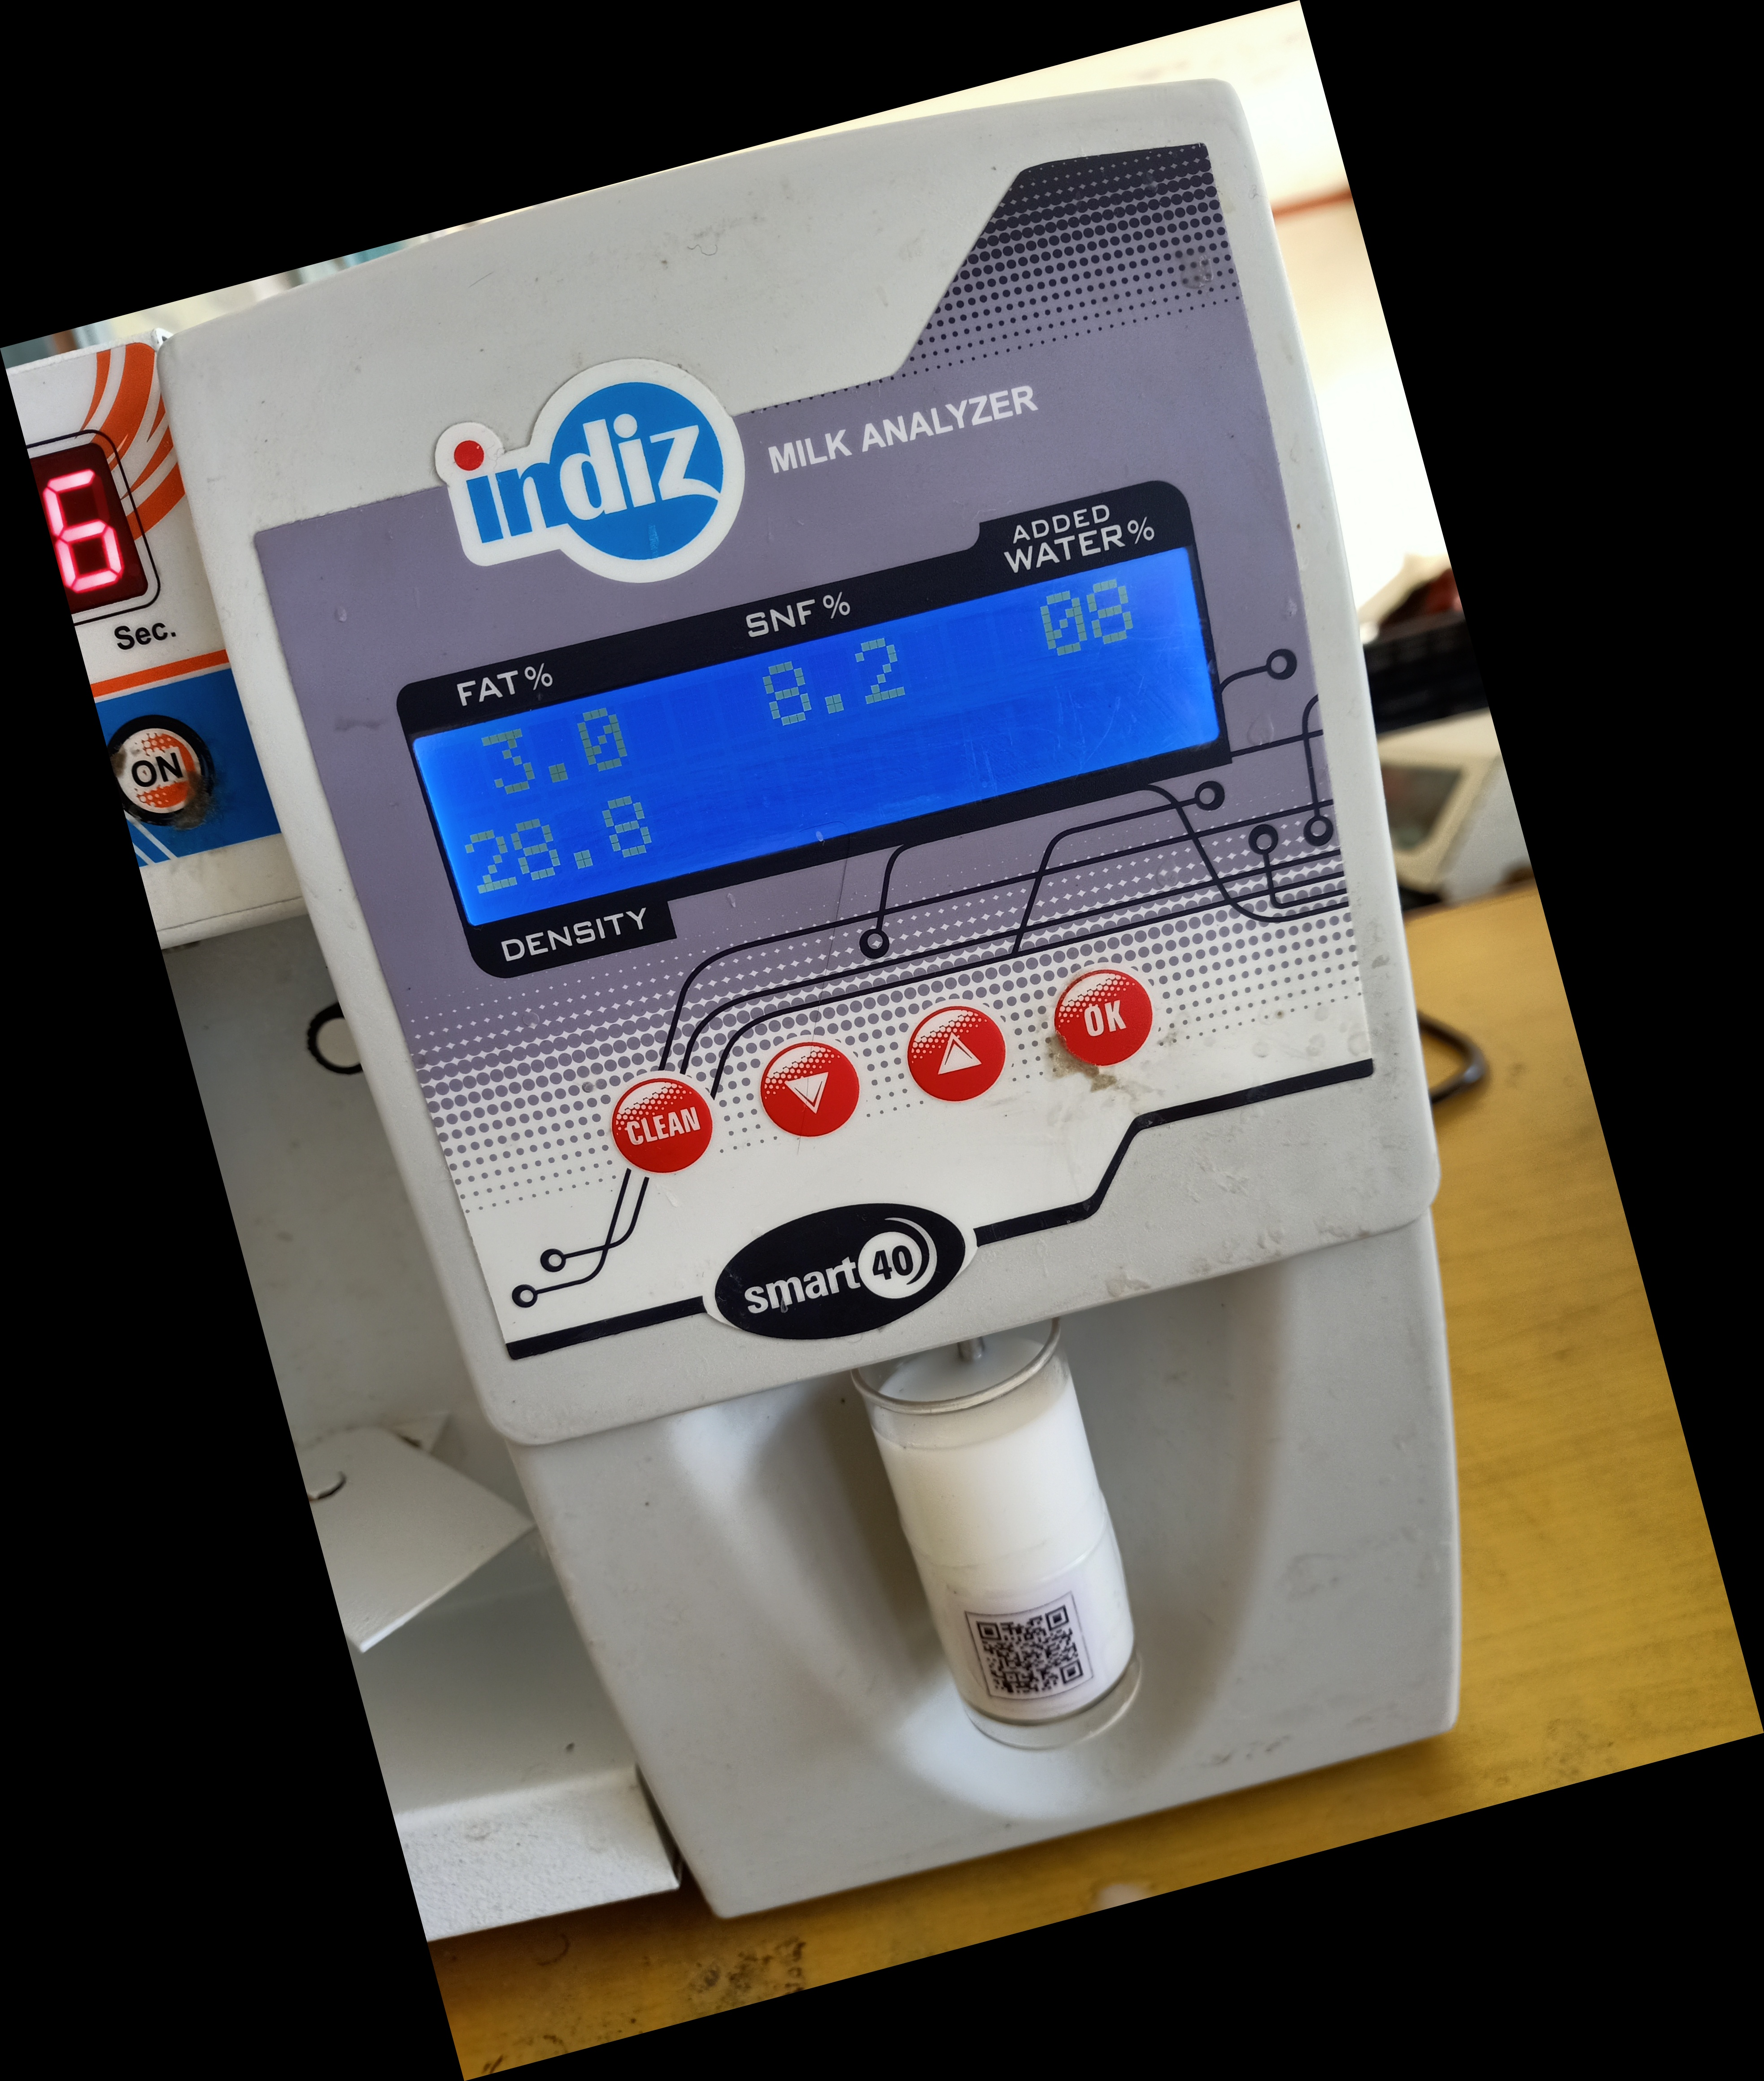lcd: (394, 483, 1277, 977)
qr: (957, 1582, 1099, 1726)
